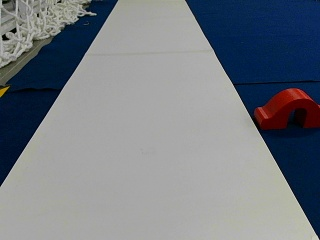bridge: (254, 88, 319, 128)
